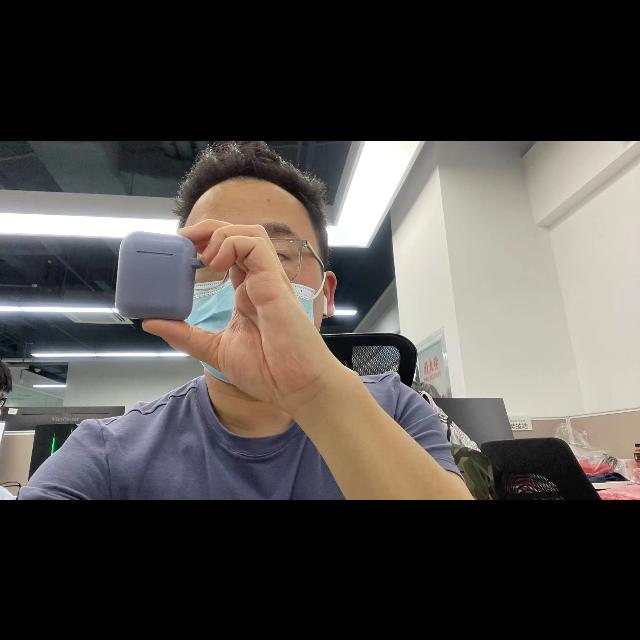airpods: (115, 229, 205, 321)
